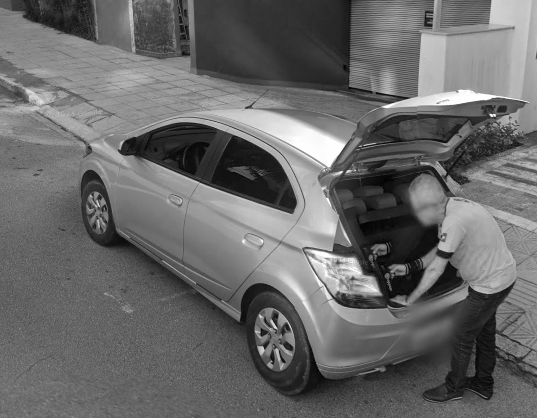car: (76, 105, 514, 402)
